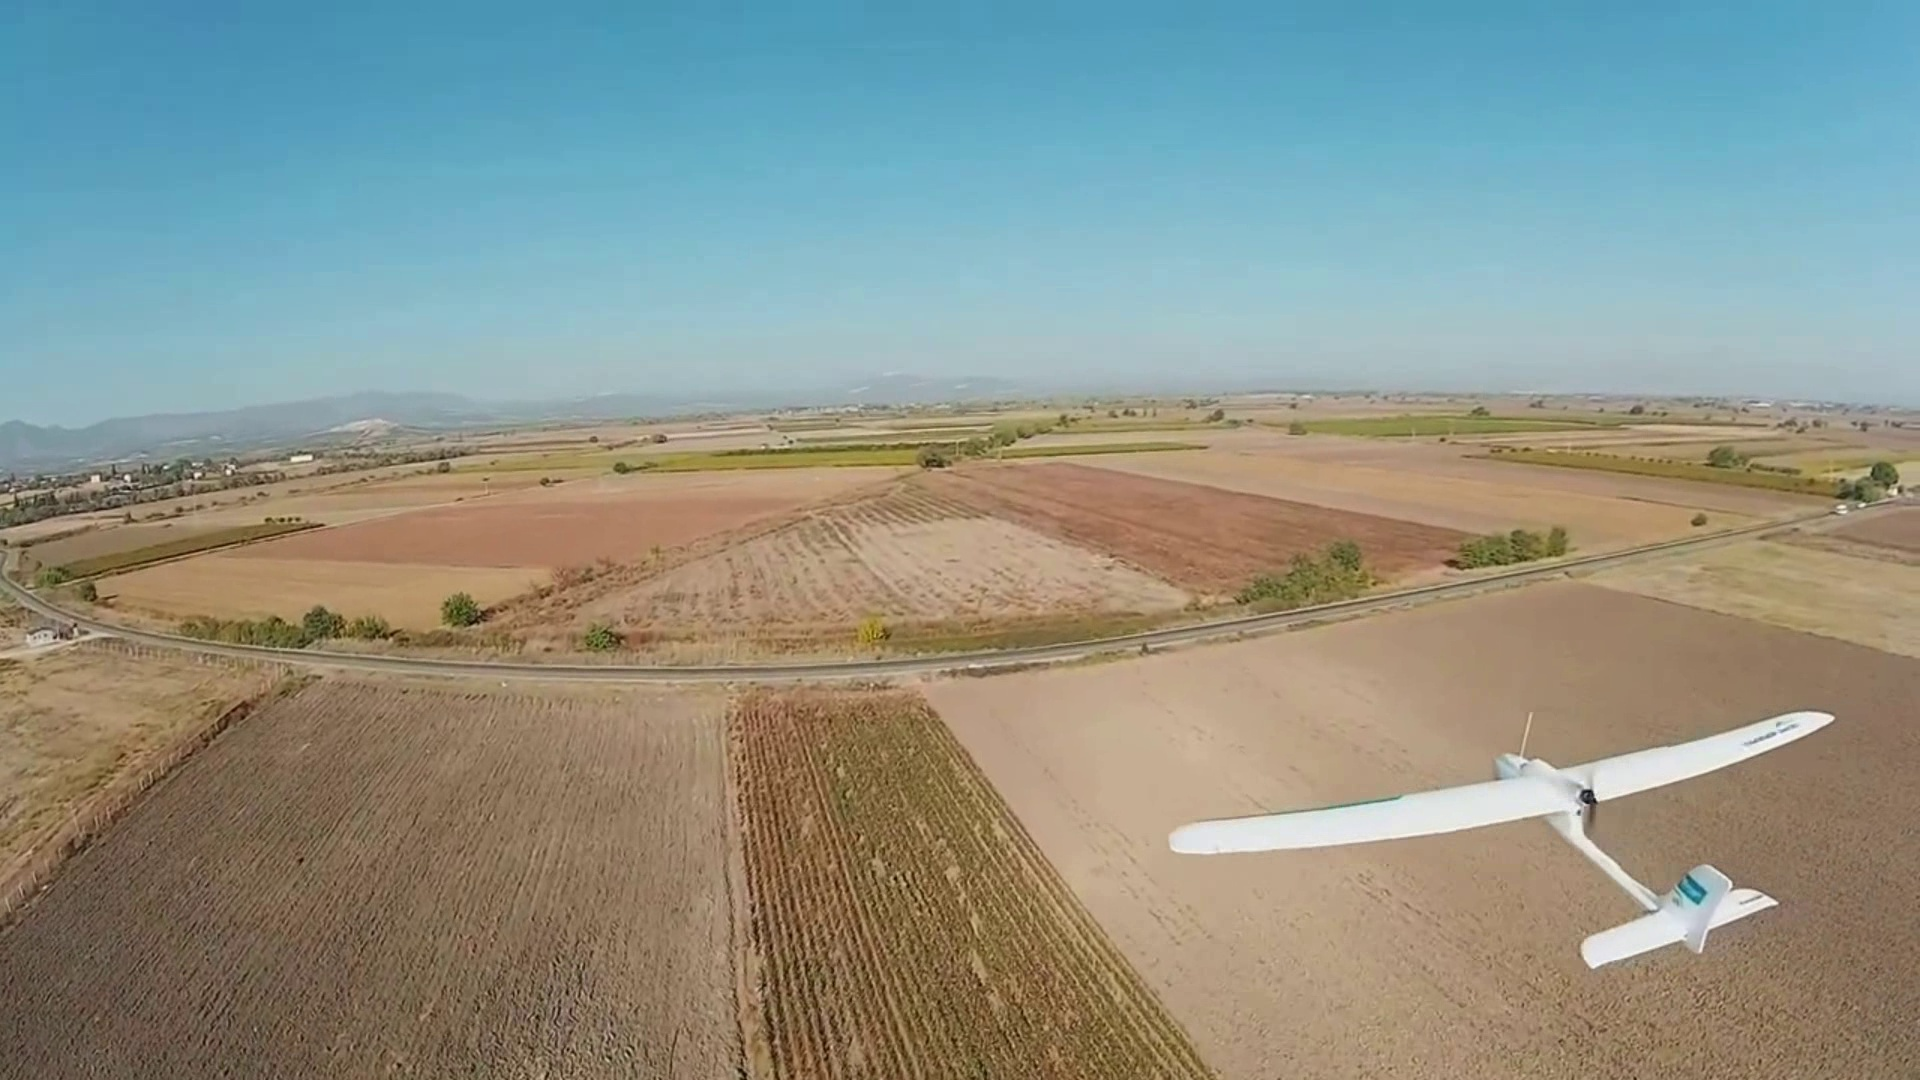airplane: (1164, 708, 1832, 968)
